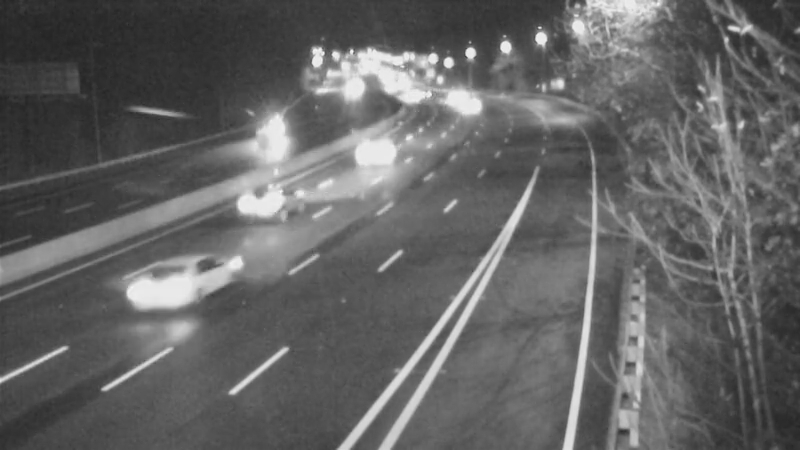vehicle: (330, 116, 410, 196), (231, 164, 311, 244), (116, 250, 196, 330), (381, 69, 431, 119), (423, 71, 473, 121), (443, 82, 493, 132), (247, 112, 297, 162), (326, 61, 376, 111)
